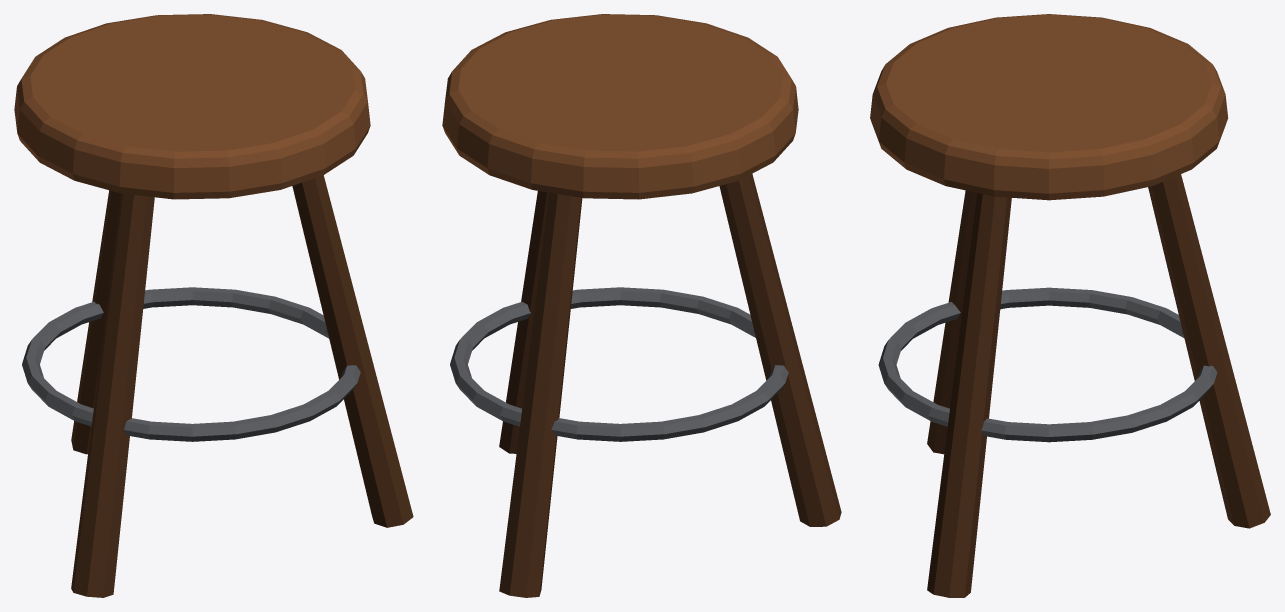
Rendered from wooden-stool_final.glb.
3 renders of one model, left to right at view 1: azimuth 30°, elevation 25°; view 2: azimuth 150°, elevation 25°; view 3: azimuth 270°, elevation 25°, orthographic.
Parts seen in each view (by area): view 1: SM_WoodenStool_Seat, SM_WoodenStool_Leg_02, SM_WoodenStool_Leg_03, SM_WoodenStool_Brace, SM_WoodenStool_Leg_01; view 2: SM_WoodenStool_Seat, SM_WoodenStool_Leg_01, SM_WoodenStool_Leg_02, SM_WoodenStool_Brace, SM_WoodenStool_Leg_03; view 3: SM_WoodenStool_Seat, SM_WoodenStool_Leg_03, SM_WoodenStool_Leg_01, SM_WoodenStool_Brace, SM_WoodenStool_Leg_02.
Part boxes in pixels (x1,y1,x2,y2): SM_WoodenStool_Seat: (14, 14, 370, 199); SM_WoodenStool_Leg_02: (71, 193, 154, 597); SM_WoodenStool_Leg_03: (292, 175, 413, 527); SM_WoodenStool_Brace: (22, 287, 360, 441); SM_WoodenStool_Leg_01: (71, 190, 120, 454); SM_WoodenStool_Seat: (442, 14, 798, 199); SM_WoodenStool_Leg_01: (499, 192, 582, 597); SM_WoodenStool_Leg_02: (719, 174, 841, 526); SM_WoodenStool_Brace: (450, 287, 788, 441); SM_WoodenStool_Leg_03: (499, 191, 549, 453); SM_WoodenStool_Seat: (870, 14, 1228, 200); SM_WoodenStool_Leg_03: (927, 193, 1011, 597); SM_WoodenStool_Leg_01: (1148, 174, 1270, 528); SM_WoodenStool_Brace: (878, 287, 1217, 442); SM_WoodenStool_Leg_02: (927, 190, 977, 454).
Bounding box in the file's own units: 0.3896 × 0.48 × 0.4003.
